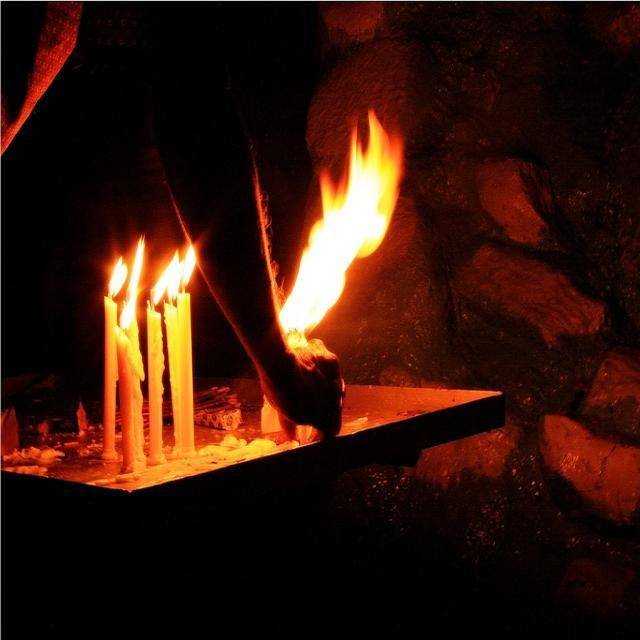Fire: (294, 176, 386, 332), (105, 247, 198, 303)
